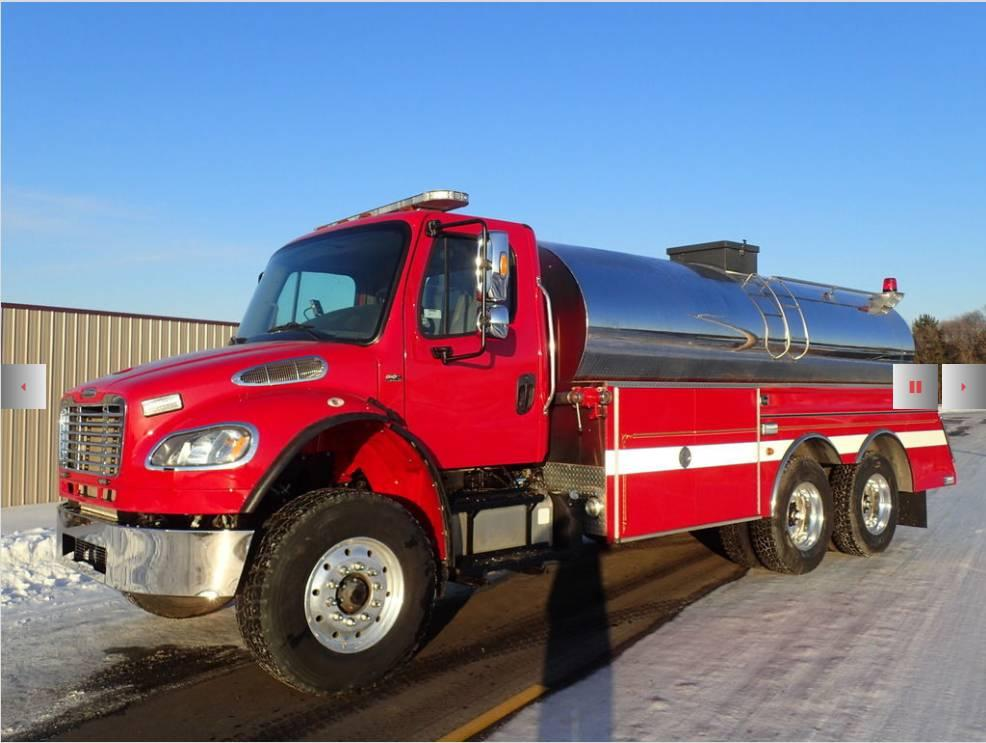Fire-engine: (54, 187, 957, 698)
